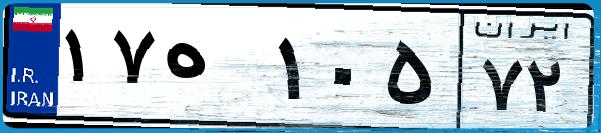0: (330, 28, 385, 110)
1: (270, 28, 330, 110), (57, 26, 110, 100)
2: (525, 38, 570, 115)
5: (385, 28, 445, 110)
7: (475, 38, 525, 113), (110, 28, 158, 98)
ه: (158, 20, 270, 120)
